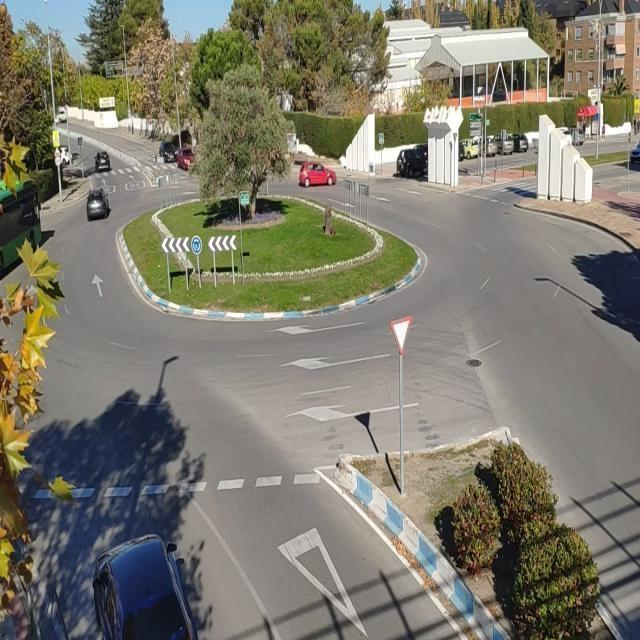Car: (298, 161, 336, 186), (85, 188, 110, 219), (94, 149, 112, 171)
